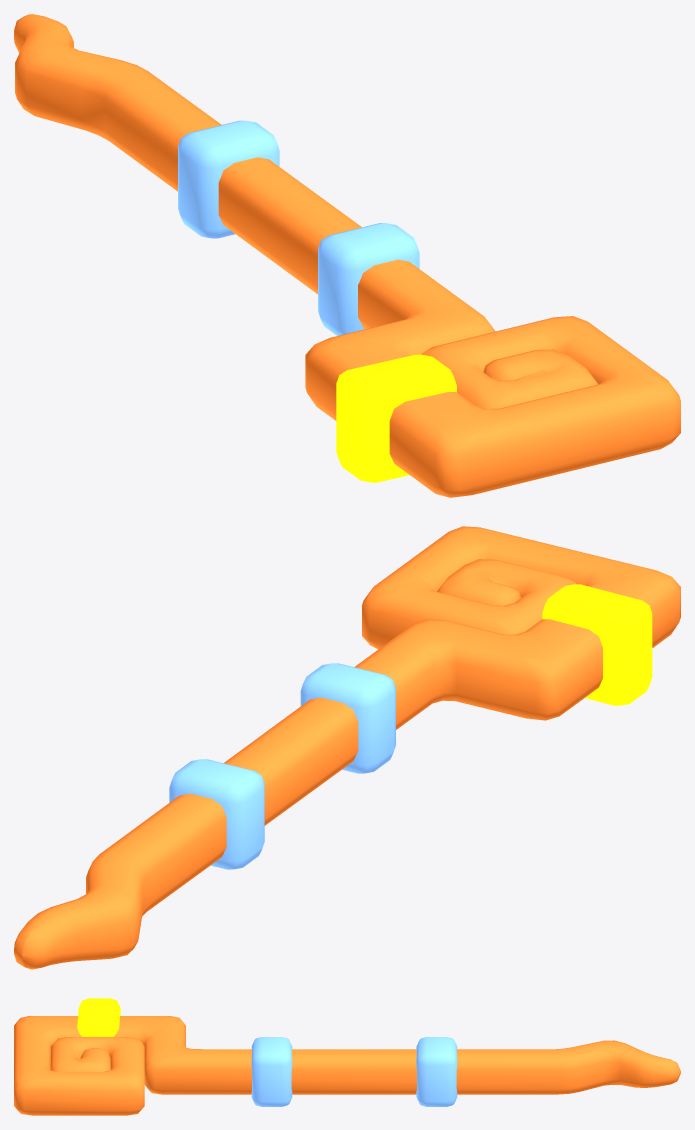
The model's file is Bule-Lv3-Wizard-WP.fbx.
3 views of the same model, one above another, from view 1: azimuth 30°, elevation 25°; view 2: azimuth 150°, elevation 25°; view 3: azimuth 270°, elevation 25° (orthographic). The views are drawn at different scales.
Visible parts, largest first — view 1: Bule-Lv3-Wizard-WP; view 2: Bule-Lv3-Wizard-WP; view 3: Bule-Lv3-Wizard-WP.
Boxes of the visible parts, x1,y1,x2,y2 form: Bule-Lv3-Wizard-WP: [14, 14, 680, 497]; Bule-Lv3-Wizard-WP: [14, 526, 680, 969]; Bule-Lv3-Wizard-WP: [14, 998, 680, 1115].
Bounding box in the file's own units: 0.4945 × 0.175 × 1.81.
